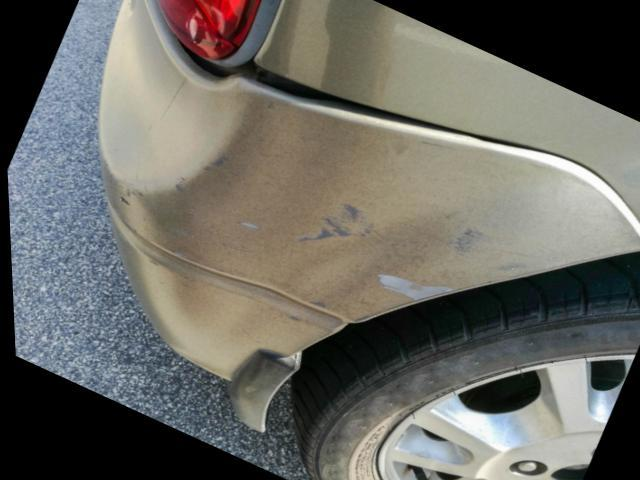scratch: (125, 146, 532, 303)
